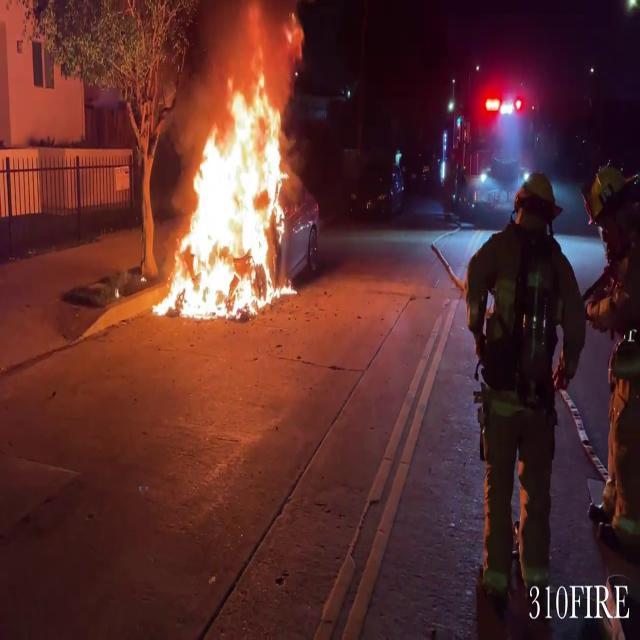Fire: (156, 58, 304, 322)
